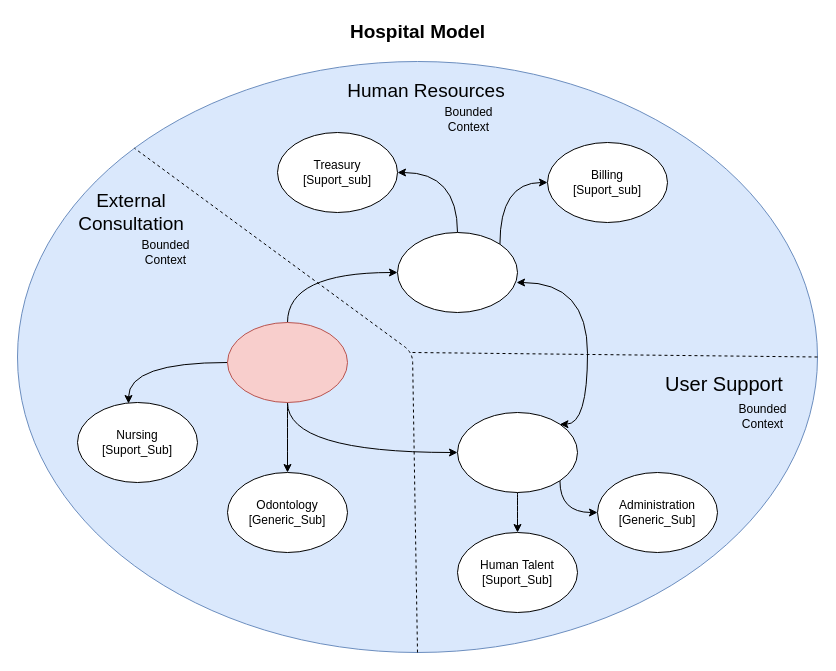
Image size: 836x671. Some labels were removed from this diagram. The shapes that lost their labels are listed below. From the top down, each one's centre as x and y in pixels, then its label:
At (x=457, y=272): "Quality [Core_Sub]".
At (x=287, y=362): "General Medicine [Core_Sub]".
At (x=517, y=452): "User Service Information System [Core_Sub]".
